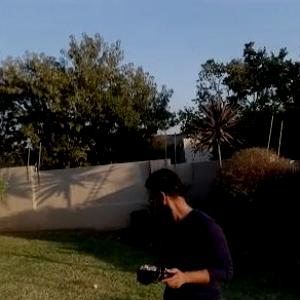follow: (134, 163, 238, 299)
